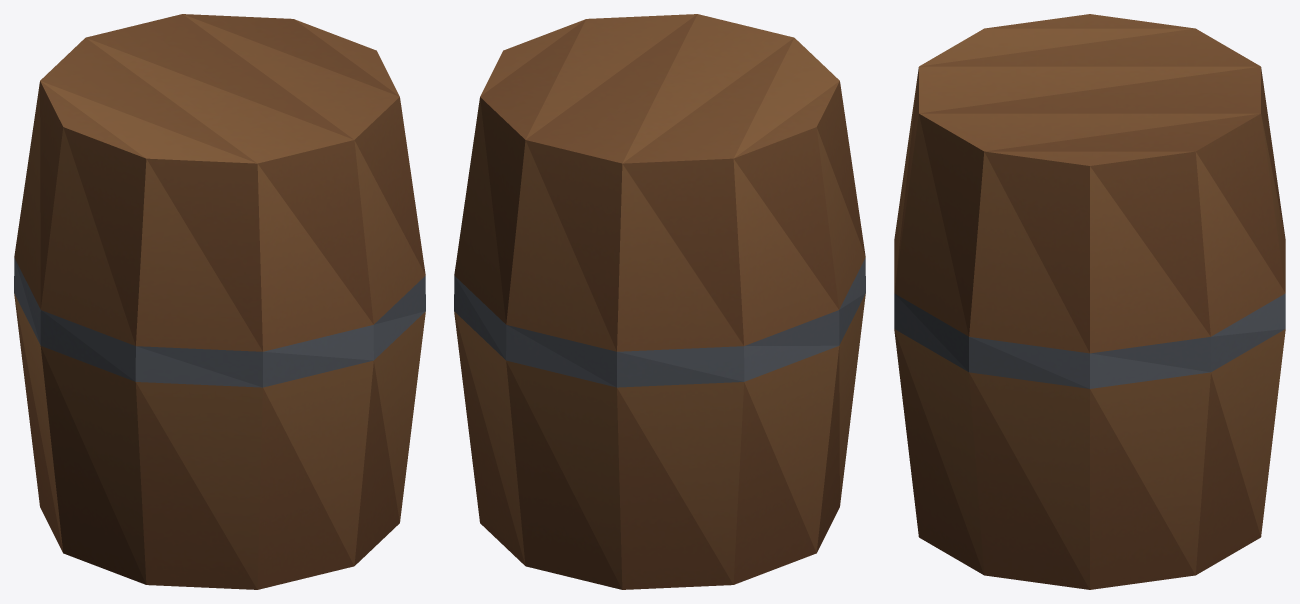
File: Barrel.fbx
3 views of the same model, side by side, from view 1: azimuth 30°, elevation 25°; view 2: azimuth 150°, elevation 25°; view 3: azimuth 270°, elevation 25° (orthographic).
Visible parts, largest first — view 1: pCylinder13; view 2: pCylinder13; view 3: pCylinder13.
Boxes of the visible parts, x1,y1,x2,y2 form: pCylinder13: (14, 14, 425, 589); pCylinder13: (454, 14, 865, 589); pCylinder13: (894, 14, 1285, 589).
Bounding box in the file's own units: 114 × 130 × 109.
